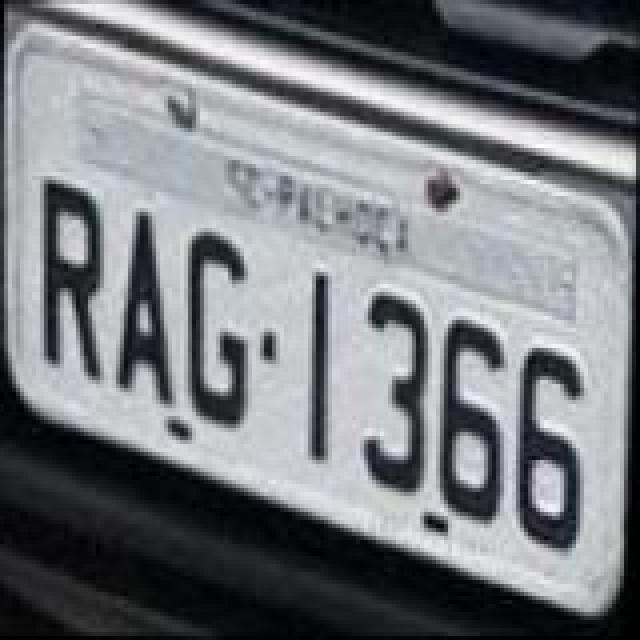1: (304, 264, 344, 468)
3: (356, 288, 440, 496)
6: (510, 342, 594, 554), (434, 314, 514, 526)
A: (110, 208, 186, 412)
G: (180, 220, 260, 428)
R: (32, 174, 112, 386)
